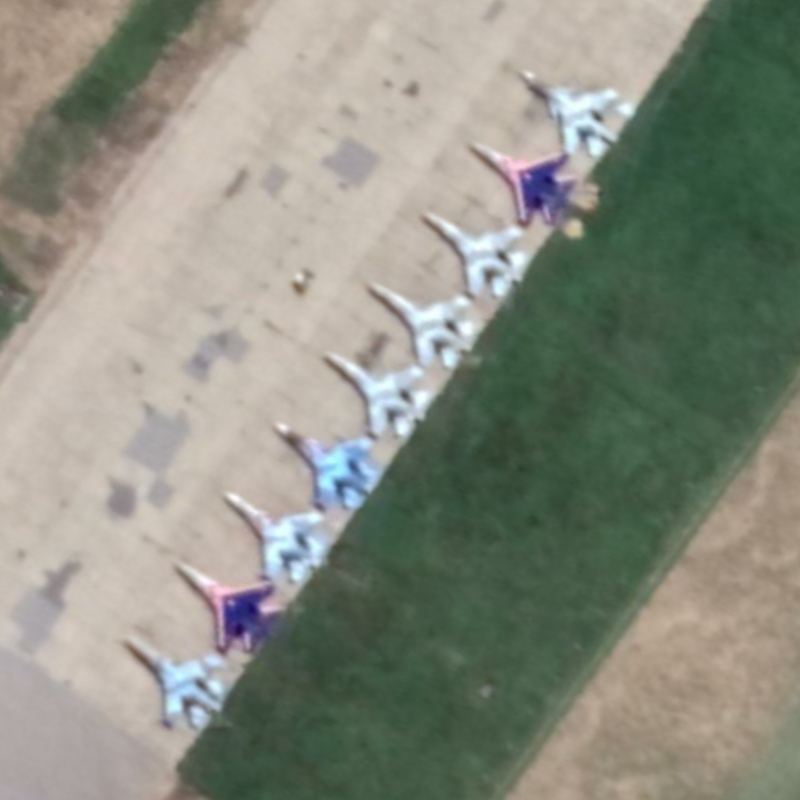A1: (272, 420, 387, 515), (124, 633, 232, 733), (223, 489, 332, 586), (366, 280, 483, 370), (176, 561, 285, 655), (420, 209, 530, 299), (468, 139, 579, 227), (323, 351, 434, 439)
A19: (519, 69, 639, 159)
